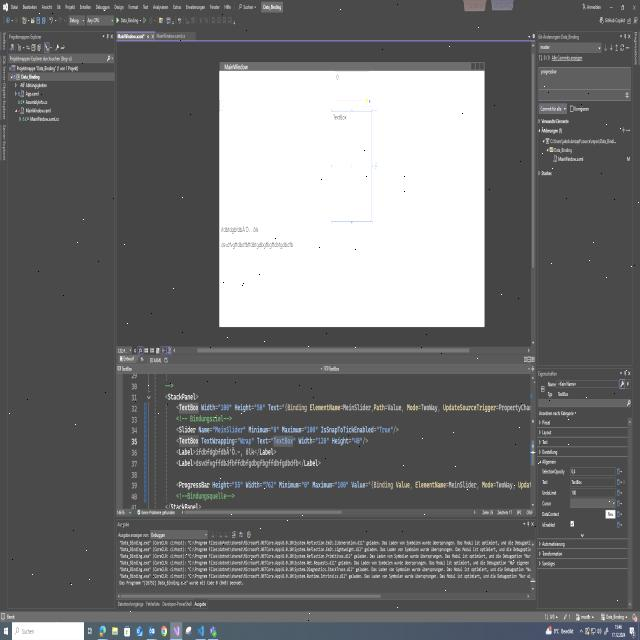input: (330, 107, 378, 227), (12, 621, 84, 640), (334, 66, 371, 102)
